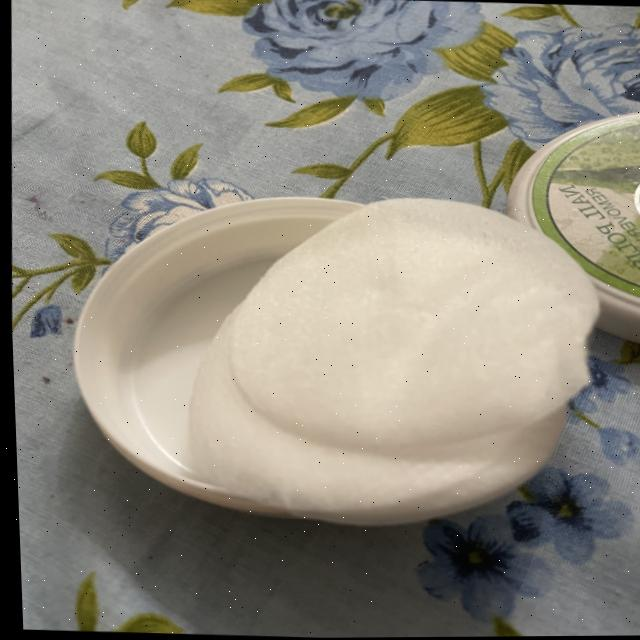nail polish remover: (130, 175, 620, 556)
